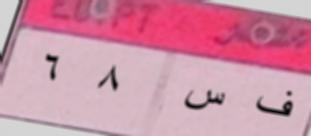6: (38, 51, 66, 83)
8: (96, 62, 129, 96)
faa: (253, 87, 297, 120)
seen: (181, 86, 230, 115)
